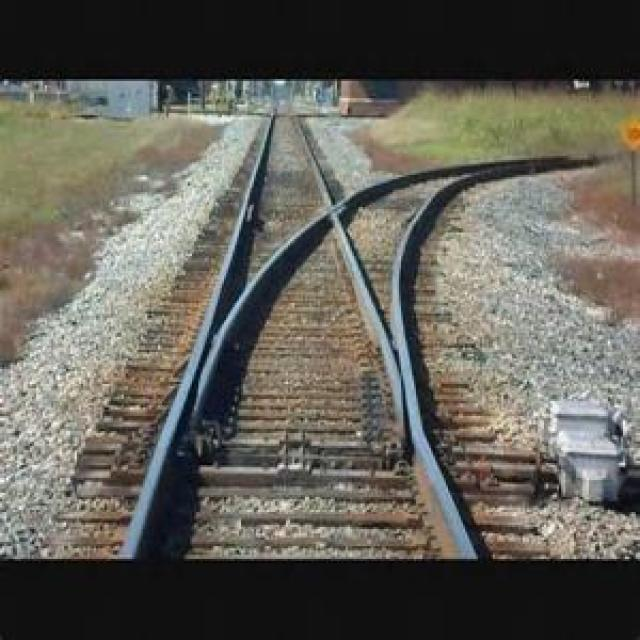rail: (87, 96, 616, 562)
